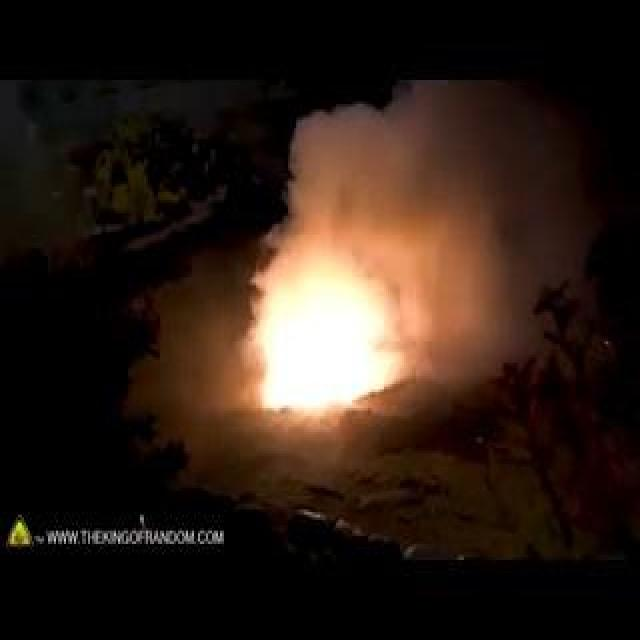Fire: (170, 166, 311, 332)
